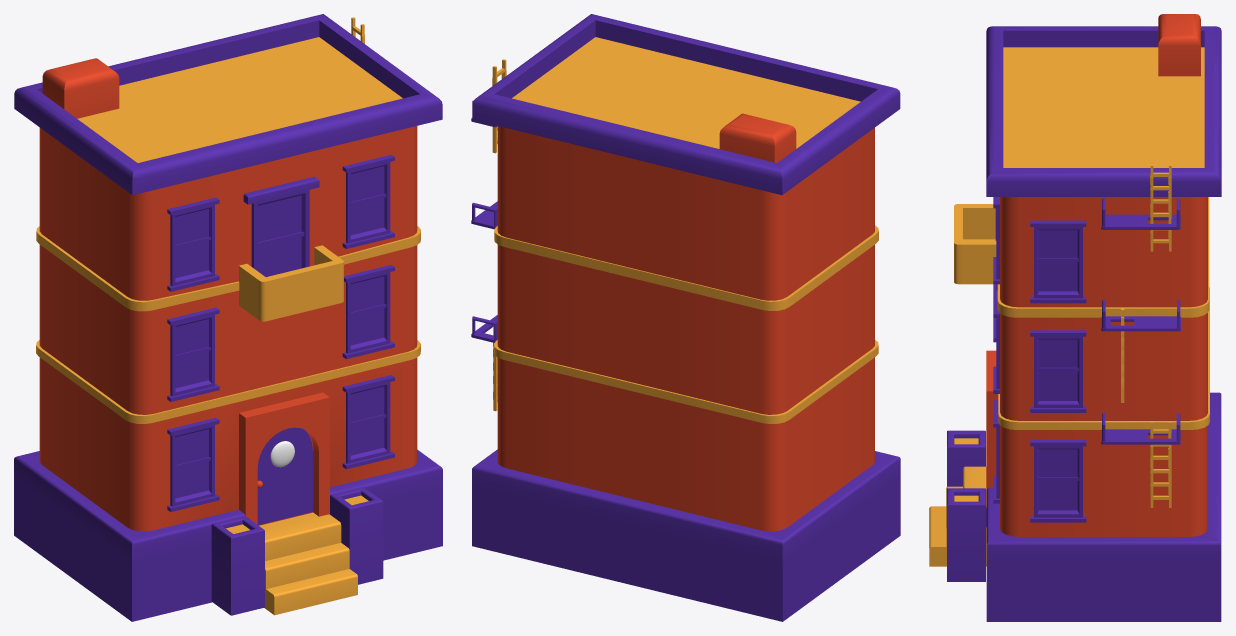
The model's file is floor_2.glb.
The picture shows the model from 3 angles, left to right: view 1: azimuth 30°, elevation 25°; view 2: azimuth 150°, elevation 25°; view 3: azimuth 270°, elevation 25°; orthographic projection.
Parts seen in each view (by area): view 1: Cube.001, Plane; view 2: Cube.001; view 3: Cube.001, Plane, Cube, Cube.003.
Boxes of the visible parts, bbox=[...] form: Cube.001: bbox=[14, 14, 442, 621]; Plane: bbox=[239, 392, 329, 525]; Cube.001: bbox=[471, 14, 900, 621]; Cube.001: bbox=[929, 14, 1221, 621]; Plane: bbox=[986, 350, 998, 507]; Cube: bbox=[1150, 421, 1171, 507]; Cube.003: bbox=[1150, 164, 1171, 251].
Size of the model in its own units: 1.9 by 2.57 by 1.45.
